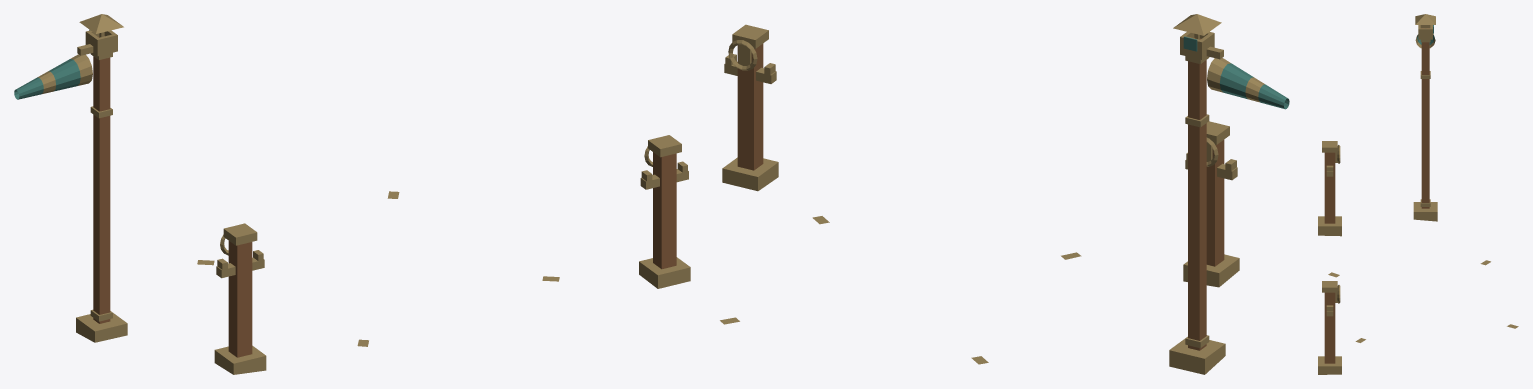
Rendered from skyport-details.glb.
The picture shows the model from 3 angles, left to right: view 1: azimuth 30°, elevation 25°; view 2: azimuth 150°, elevation 25°; view 3: azimuth 270°, elevation 25°; orthographic projection. The views are drawn at different scales.
Visible parts, largest first — view 1: C3.1 / C1 / oiled timber, C3.1 / C1 / weathered bronze, C3.1 / Skyport / enamel jade.001; view 2: C3.1 / C1 / oiled timber, C3.1 / C1 / weathered bronze, C3.1 / Skyport / enamel jade.001; view 3: C3.1 / C1 / oiled timber, C3.1 / C1 / weathered bronze.
Boxes of the visible parts, x1,y1,x2,y2 form: C3.1 / C1 / oiled timber: (93,36,676,357); C3.1 / C1 / weathered bronze: (37,14,690,374); C3.1 / Skyport / enamel jade.001: (14,30,89,99); C3.1 / C1 / oiled timber: (737,37,1224,350); C3.1 / C1 / weathered bronze: (720,14,1264,374); C3.1 / Skyport / enamel jade.001: (1183,36,1289,109); C3.1 / C1 / oiled timber: (1324,28,1429,363); C3.1 / C1 / weathered bronze: (1318,14,1518,374).
Size of the model in its own units: 9.91 by 5.23 by 4.62.
